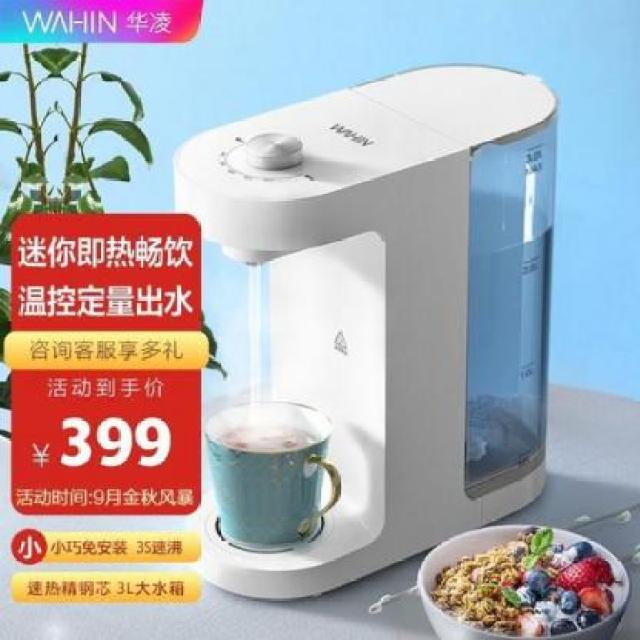cooler: (174, 58, 561, 602)
